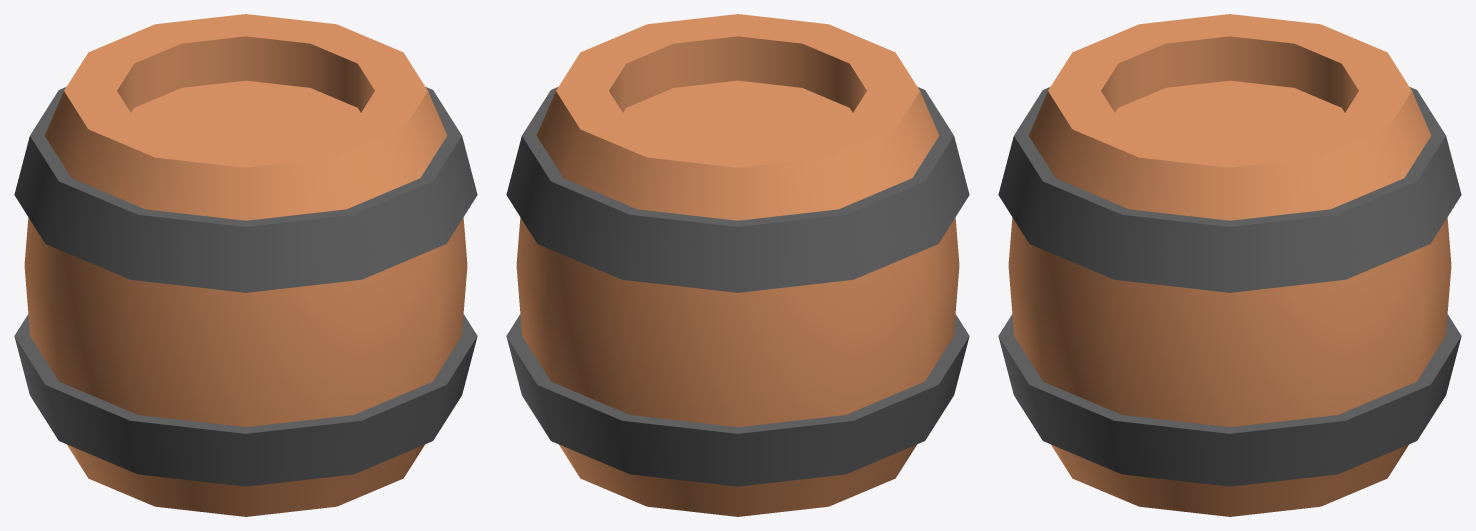
Rendered from Barrel_A.fbx.
The picture shows the model from 3 angles, left to right: view 1: azimuth 30°, elevation 25°; view 2: azimuth 150°, elevation 25°; view 3: azimuth 270°, elevation 25°; orthographic projection.
Parts seen in each view (by area): view 1: Barrel_A; view 2: Barrel_A; view 3: Barrel_A.
Boxes of the visible parts, box(x1,y1,x2,y2) form: Barrel_A: box(14, 14, 477, 516); Barrel_A: box(506, 14, 969, 516); Barrel_A: box(998, 14, 1461, 516).
Bounding box in the file's own units: 108 × 89.58 × 108.
